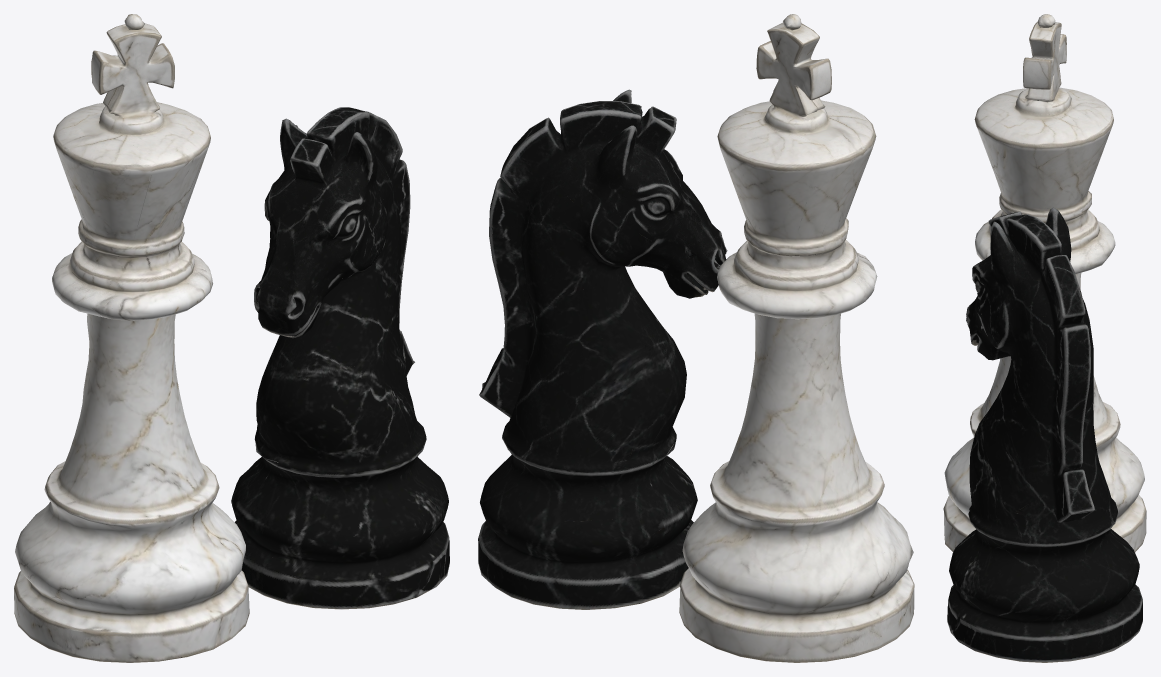
Rendered from chess_pieces.glb.
3 views of the same model, side by side, from view 1: azimuth 30°, elevation 25°; view 2: azimuth 150°, elevation 25°; view 3: azimuth 270°, elevation 25° (orthographic). The views are drawn at different scales.
Size of the model in its own units: 0.6724 by 0.9507 by 0.3359.
Materials: 1 (1 with a texture image).
